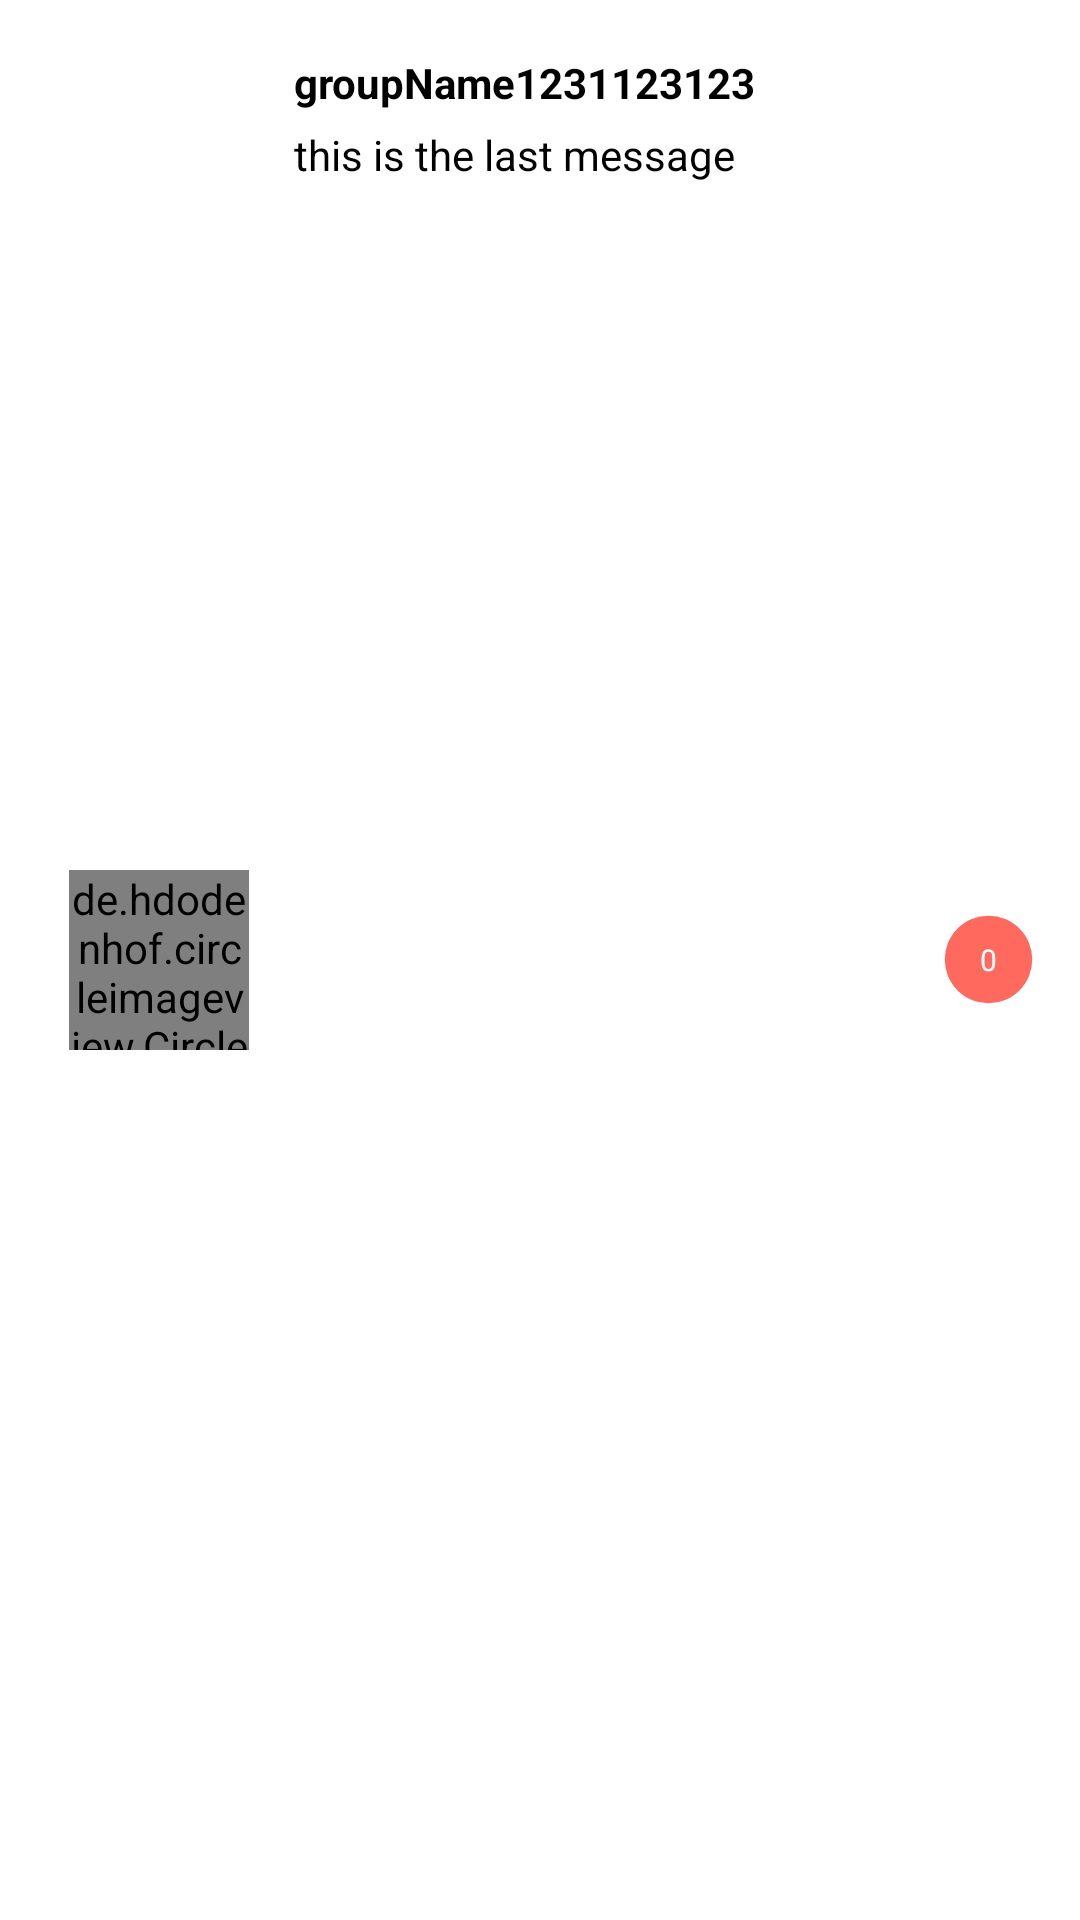

Locate icon controls on the screen. Image size 1080×1920, boxes as [left=x1, top=y1, right=x2, bottom=y2].
circle: [left=944, top=915, right=1033, bottom=1004]
